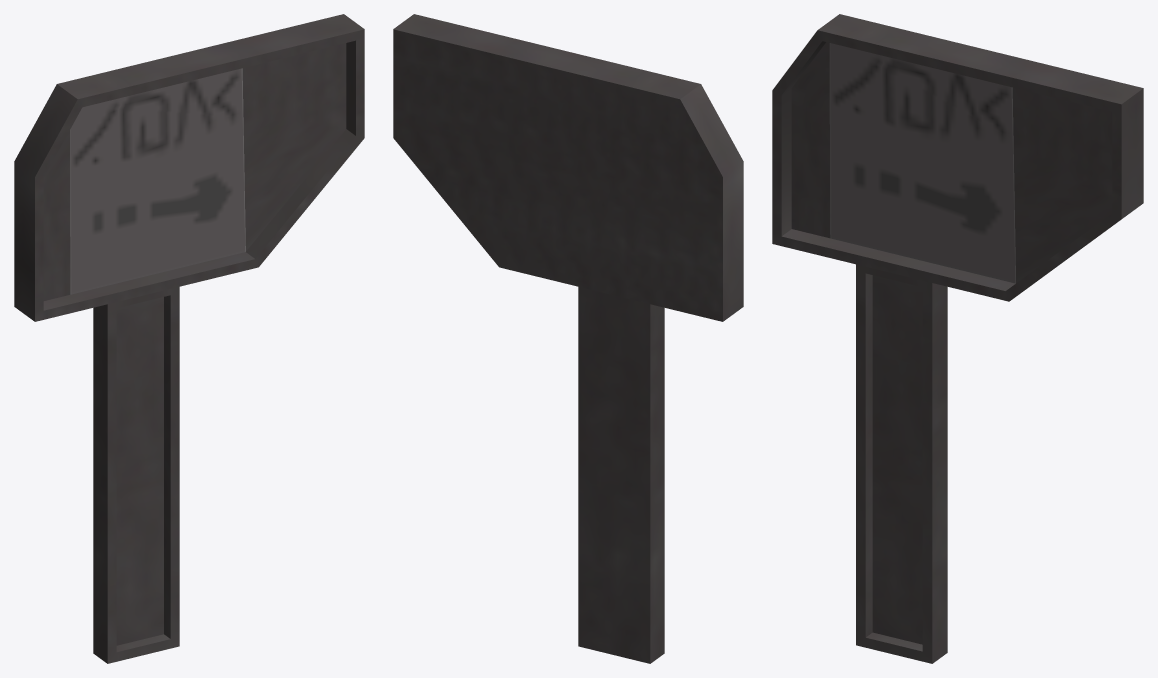
File: Sign 1.fbx
3 renders of one model, left to right at view 1: azimuth 30°, elevation 25°; view 2: azimuth 150°, elevation 25°; view 3: azimuth 330°, elevation 25°, orthographic. The views are drawn at different scales.
Visible parts, largest first — view 1: Sign_1; view 2: Sign_1; view 3: Sign_1.
Boxes of the visible parts, box(x1,y1,x2,y2) form: Sign_1: box(14, 14, 364, 663); Sign_1: box(393, 14, 743, 663); Sign_1: box(772, 14, 1143, 663).
Size of the model in its own units: 119 by 198 by 13.06.
Materials: 1 (1 with a texture image).
